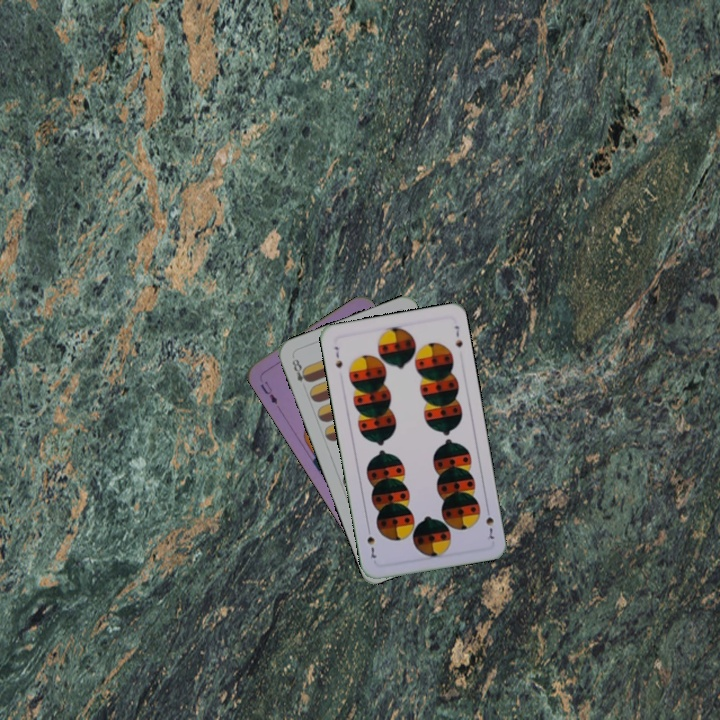E8: (288, 355, 312, 385)
EU: (256, 377, 280, 407)
S7: (482, 503, 497, 542), (330, 342, 345, 371)
